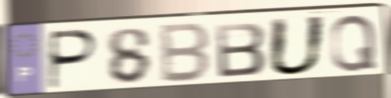8: (104, 27, 153, 86)
B: (159, 21, 213, 85), (213, 20, 268, 79)
P: (47, 28, 101, 92)
Q: (328, 13, 379, 74)
U: (266, 14, 330, 78)
